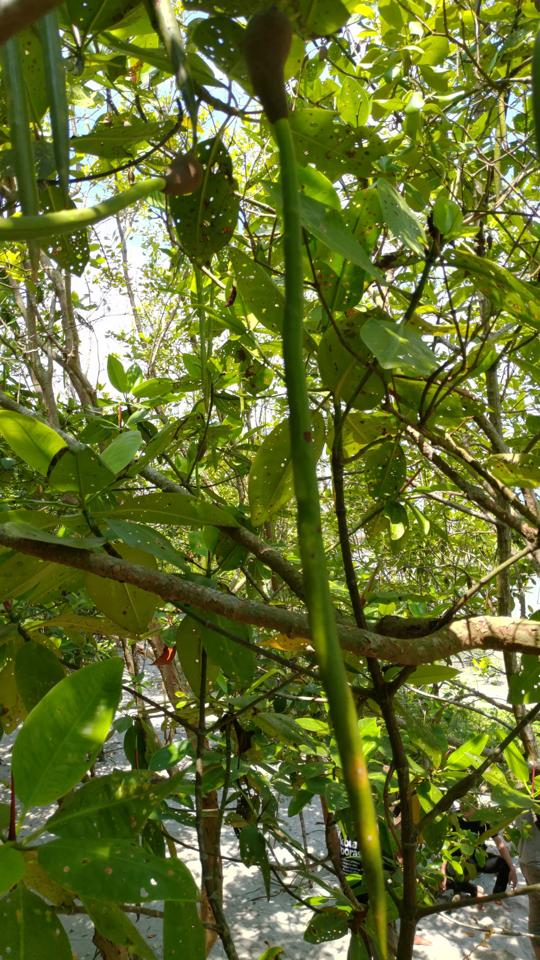mentah: (227, 7, 411, 956)
